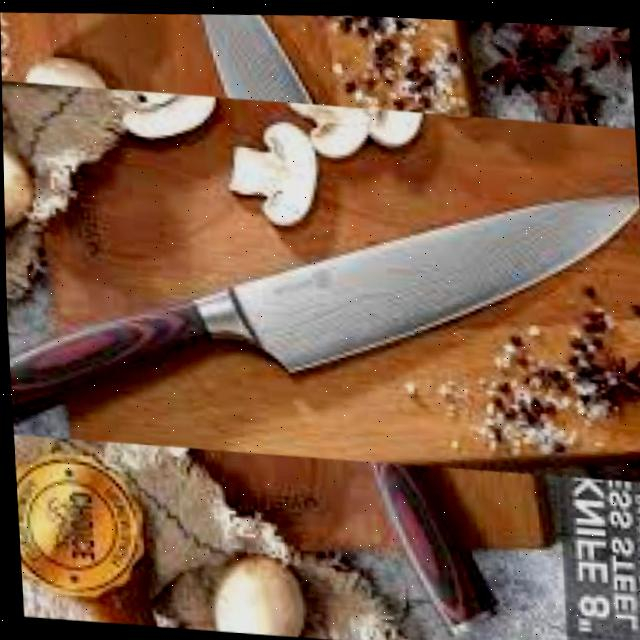knife: (190, 7, 502, 640), (3, 164, 640, 450)
